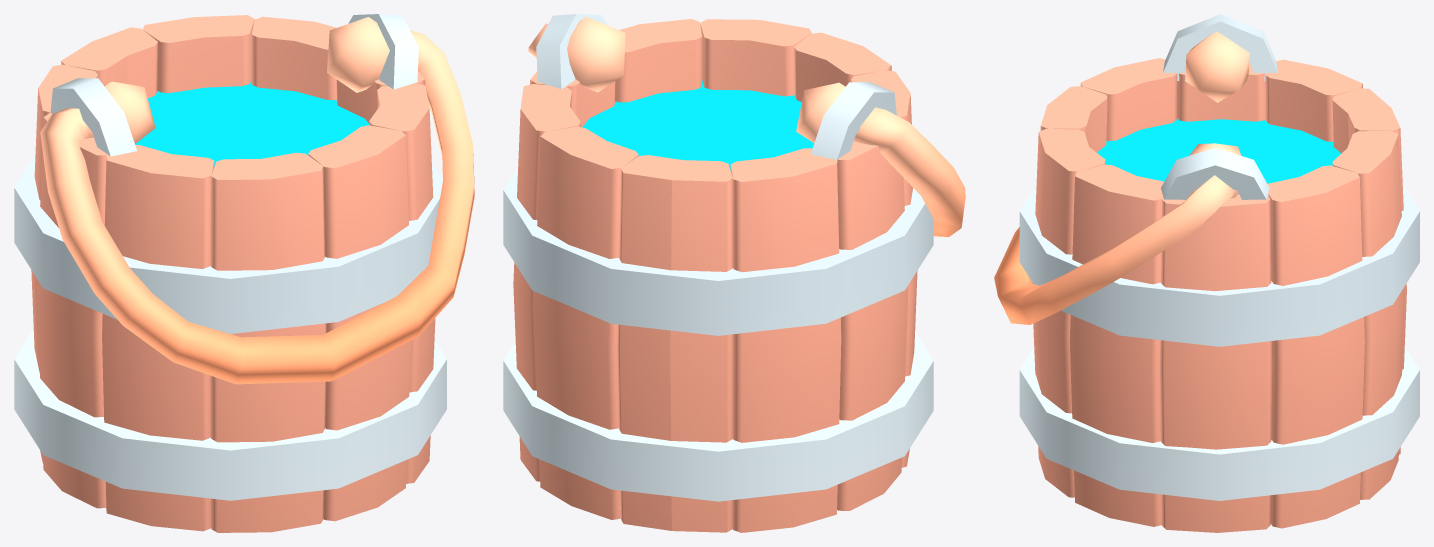
File: pail_001.glb
3 renders of one model, left to right at view 1: azimuth 30°, elevation 25°; view 2: azimuth 150°, elevation 25°; view 3: azimuth 270°, elevation 25°, orthographic. The views are drawn at different scales.
Visible parts, largest first — view 1: pail_001; view 2: pail_001; view 3: pail_001.
Boxes of the visible parts, left/top/right/bottom form: pail_001: left=14, top=14, right=474, bottom=532; pail_001: left=503, top=14, right=965, bottom=532; pail_001: left=994, top=14, right=1419, bottom=532.
Bounding box in the file's own units: 1.37 × 1.32 × 1.36.
Materials: 1 (1 with a texture image).
